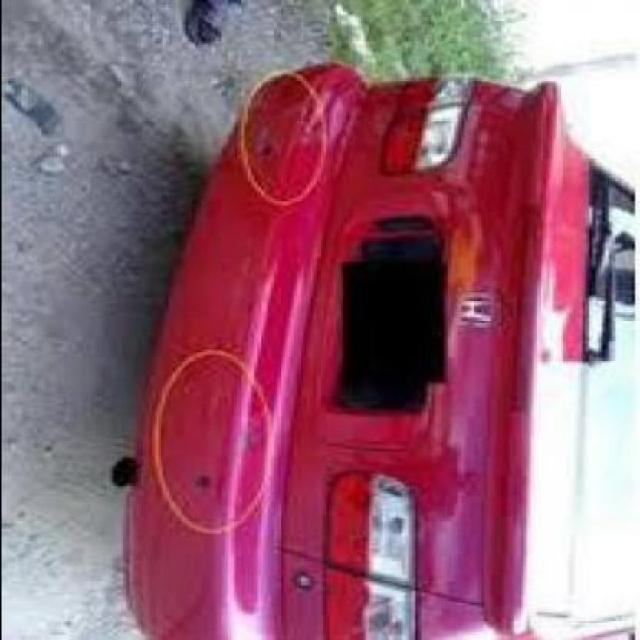damage: (152, 353, 268, 535), (223, 77, 328, 204)
